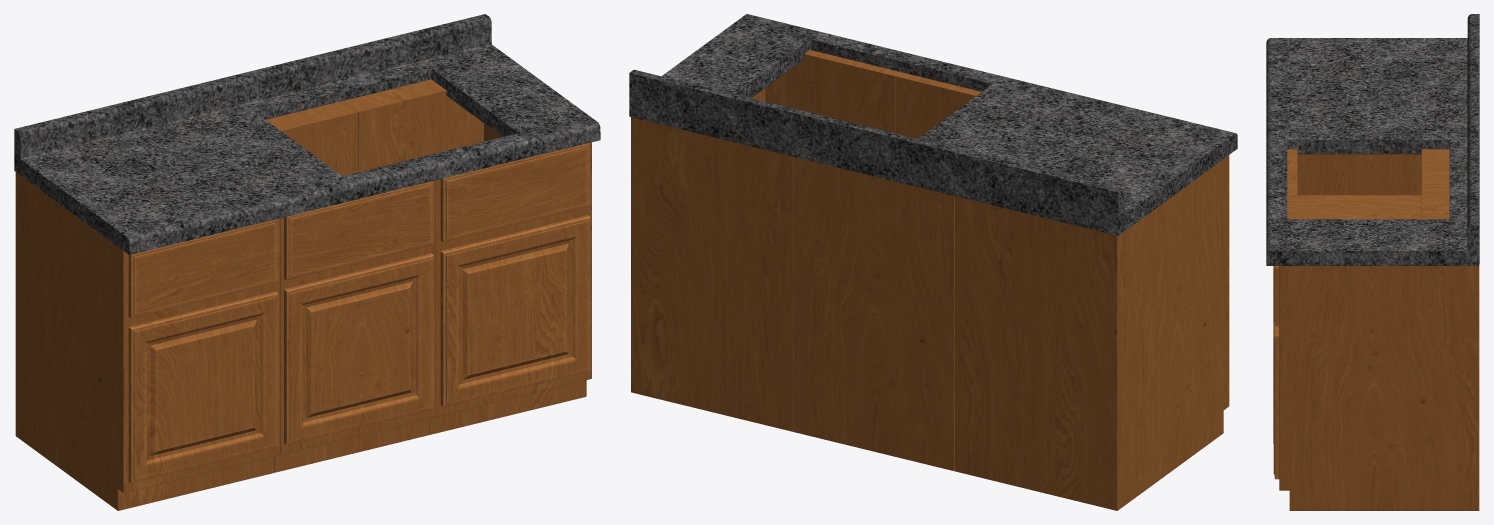
File: lowerCabinetSink.glb
3 renders of one model, left to right at view 1: azimuth 30°, elevation 25°; view 2: azimuth 150°, elevation 25°; view 3: azimuth 270°, elevation 25°, orthographic. The views are drawn at different scales.
Visible parts, largest first — view 1: counterTop, l_lowerCabinent, l_cabDoor, r_cabDoor, m_cabDoor, r_lowerCabinentSink, m_lowerCabinentSink, l_cabDrawer, r_cabDrawer, m_cabDrawer; view 2: l_lowerCabinent, counterTop, r_lowerCabinentSink, m_lowerCabinentSink; view 3: r_lowerCabinentSink, counterTop, m_lowerCabinentSink, r_cabDoor, r_cabDrawer.
Boxes of the visible parts, left/top/right/bottom form: counterTop: left=14, top=14, right=600, bottom=254; l_lowerCabinent: left=15, top=172, right=279, bottom=510; l_cabDoor: left=128, top=291, right=278, bottom=482; r_cabDoor: left=440, top=215, right=590, bottom=406; m_cabDoor: left=284, top=253, right=433, bottom=444; r_lowerCabinentSink: left=344, top=79, right=591, bottom=434; m_lowerCabinentSink: left=266, top=101, right=435, bottom=472; l_cabDrawer: left=128, top=219, right=278, bottom=317; r_cabDrawer: left=440, top=143, right=590, bottom=241; m_cabDrawer: left=284, top=181, right=433, bottom=280; l_lowerCabinent: left=955, top=155, right=1229, bottom=510; counterTop: left=629, top=14, right=1237, bottom=235; r_lowerCabinentSink: left=631, top=50, right=900, bottom=431; m_lowerCabinentSink: left=793, top=72, right=981, bottom=471; r_lowerCabinentSink: left=1279, top=189, right=1479, bottom=510; counterTop: left=1266, top=14, right=1479, bottom=265; m_lowerCabinentSink: left=1287, top=149, right=1449, bottom=219; r_cabDoor: left=1273, top=305, right=1279, bottom=479; r_cabDrawer: left=1273, top=266, right=1279, bottom=326.
Bounding box in the file's own units: 1.6 × 1 × 0.6783.
6 materials, 6 textured.
